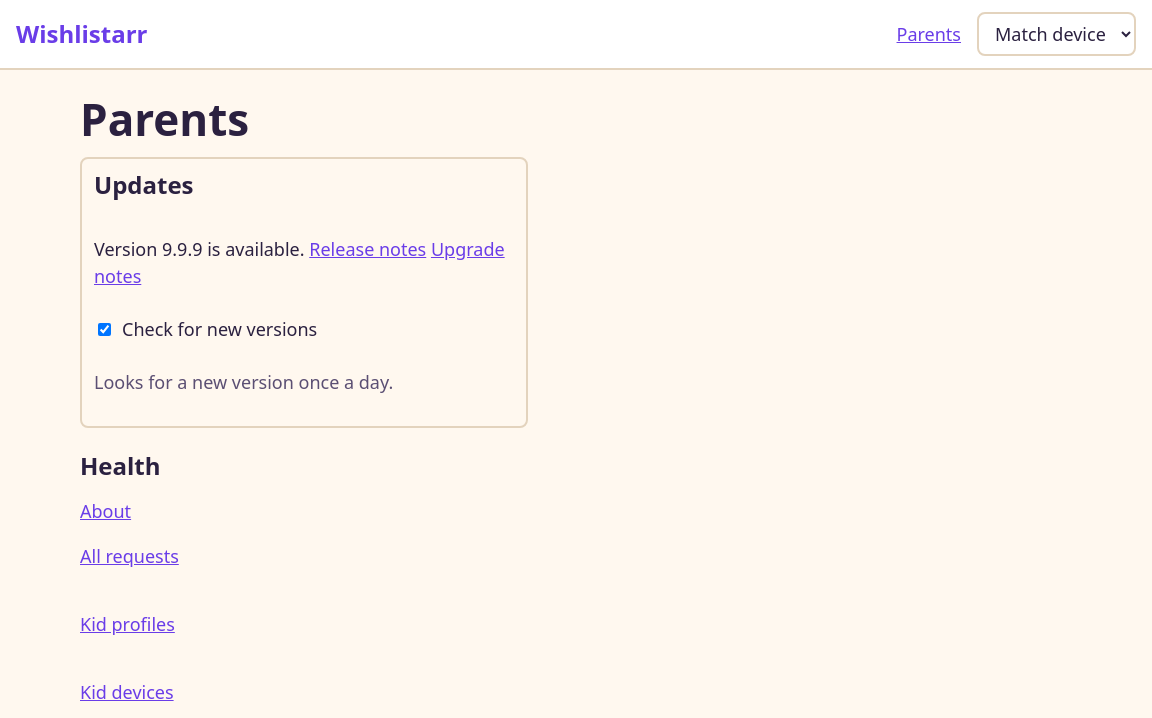
Test: turns the check off and loads the notice again
What coordinates should you click on to do the following:
click the checkbox labelled "Check for new versions"
I would click on:
 (104, 330)
Its box is [98, 323, 111, 336].
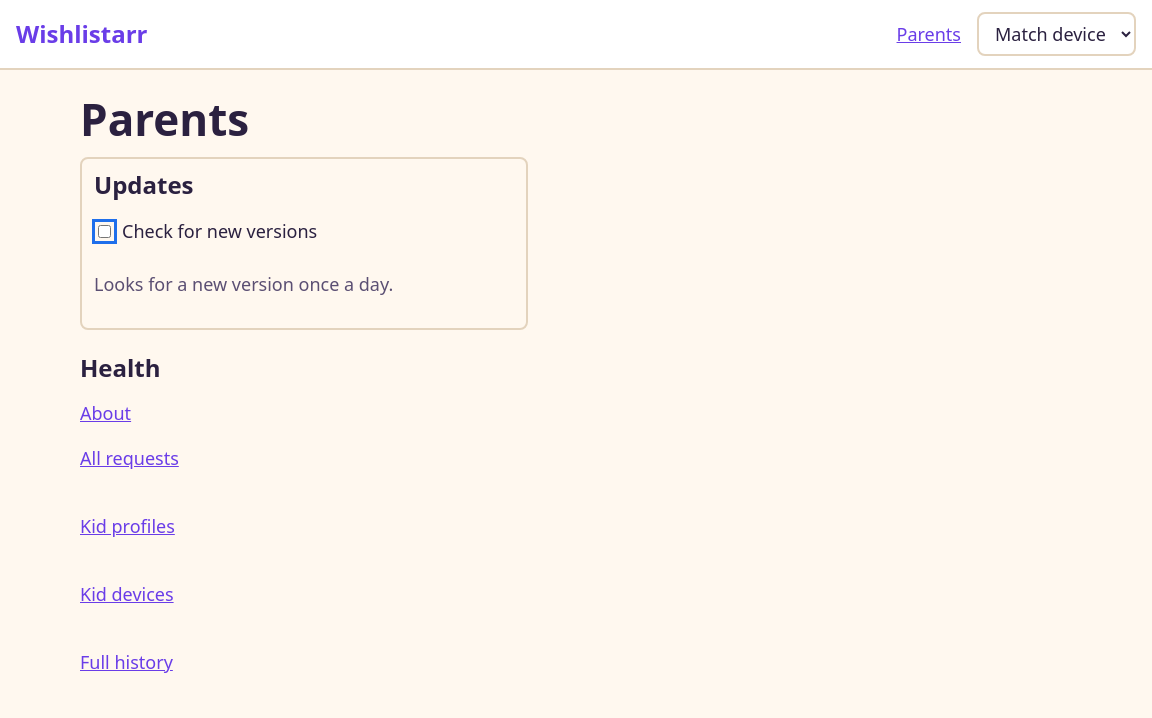
Result: the checkbox labelled "Check for new versions" is not checked at [98, 225, 111, 238]
Result: the link "Release notes" is gone
